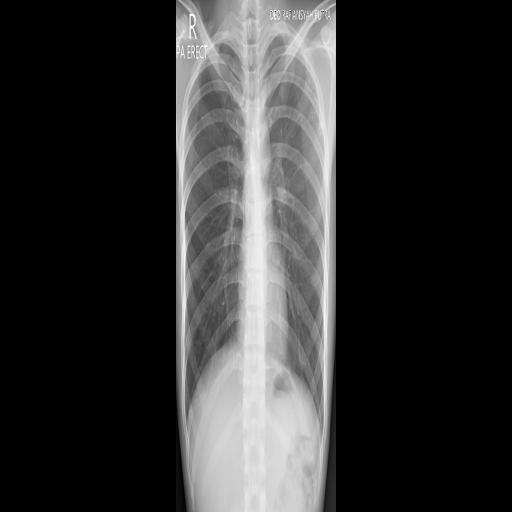normal: (181, 20, 326, 444)
